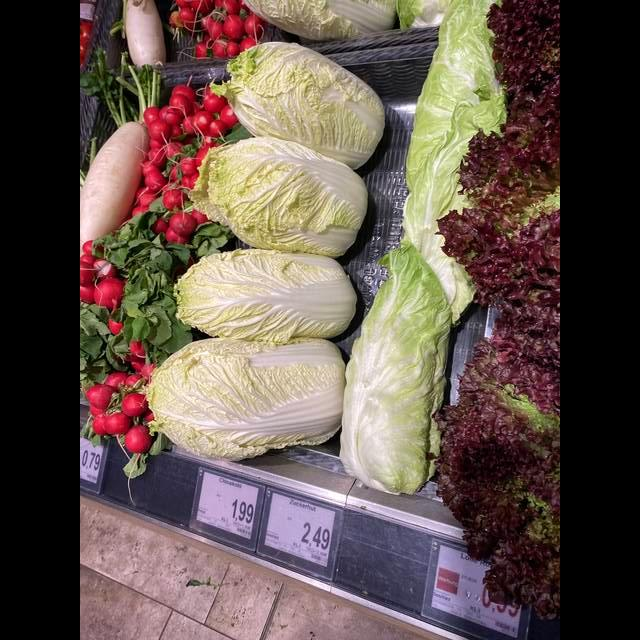cabbage: (146, 338, 348, 457), (222, 43, 385, 166), (194, 138, 367, 253), (174, 253, 355, 333)
